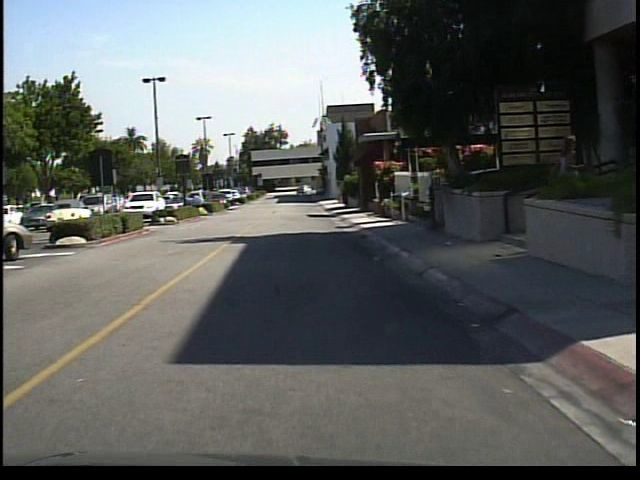person: (548, 128, 585, 209)
